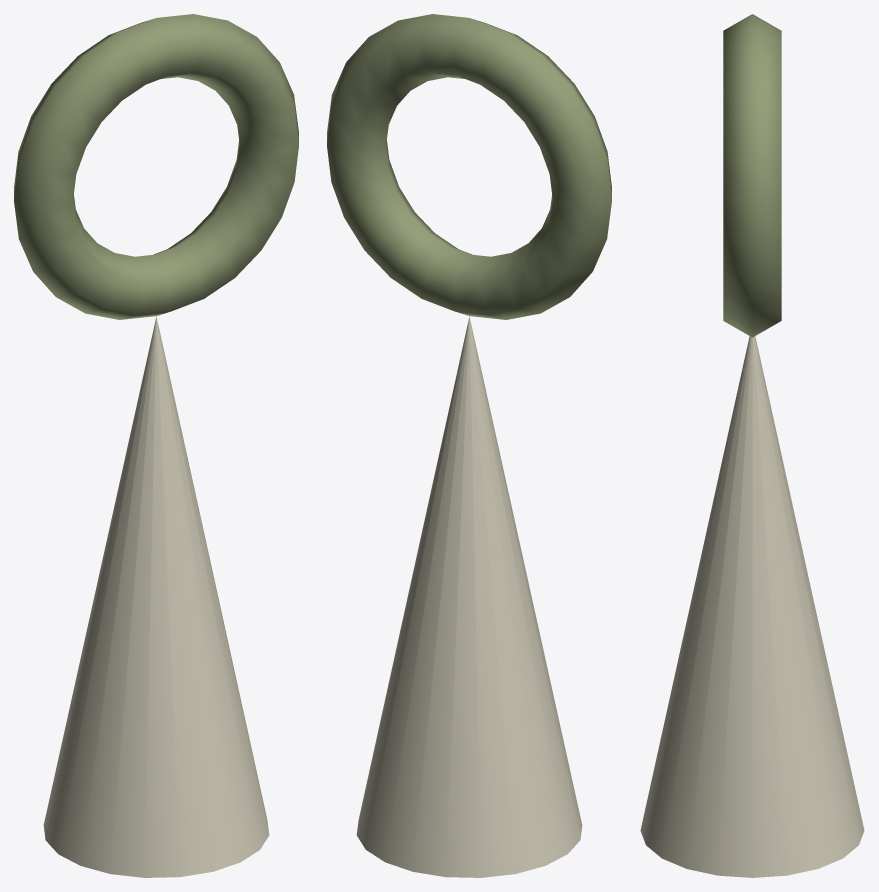
Rendered from primitive-crafting-workshop-tooth-pendant-a5d241cf__21549.glb.
3 renders of one model, left to right at view 1: azimuth 30°, elevation 25°; view 2: azimuth 150°, elevation 25°; view 3: azimuth 270°, elevation 25°, orthographic.
Visible parts, largest first — view 1: tooth-pendant; view 2: tooth-pendant; view 3: tooth-pendant.
Part boxes in pixels (bbox=[...]): tooth-pendant: bbox=[14, 14, 298, 877]; tooth-pendant: bbox=[327, 14, 611, 877]; tooth-pendant: bbox=[640, 14, 864, 877].
Size of the model in its own units: 0.058 by 0.158 by 0.04.
